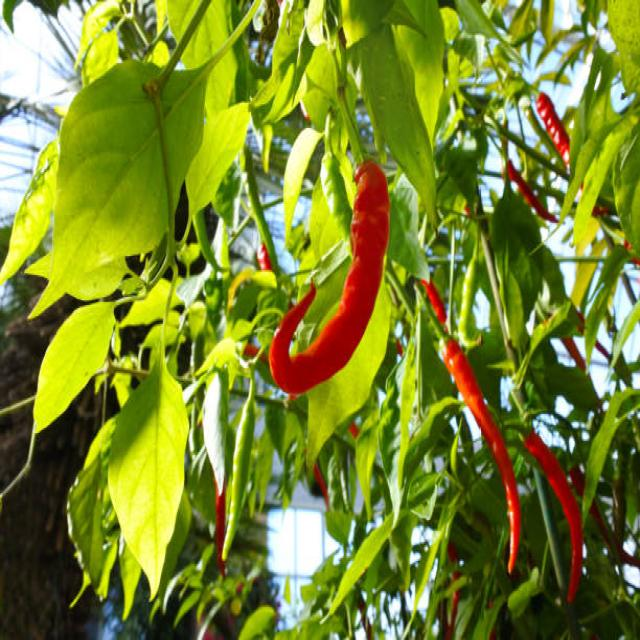Ripe: (270, 162, 390, 394), (442, 338, 521, 573), (524, 431, 581, 604), (536, 93, 569, 167)
Unripe: (222, 376, 255, 558), (321, 151, 352, 241)
